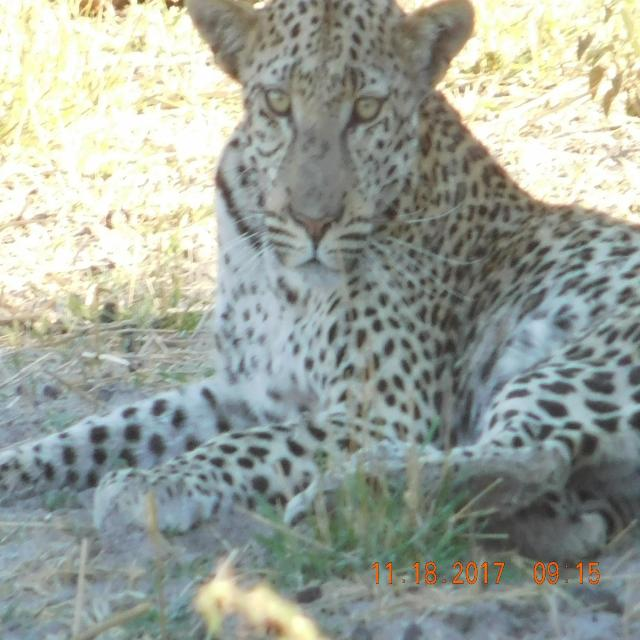Leopard: (0, 0, 639, 559)
